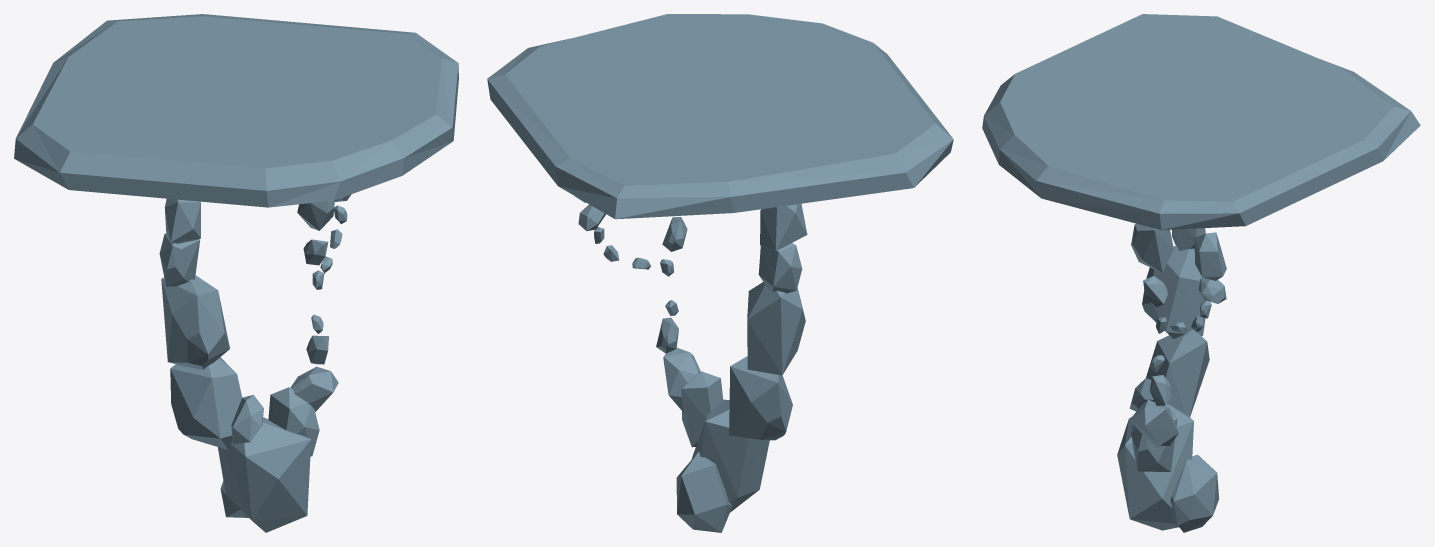
The model's file is StoneTree4.fbx.
The picture shows the model from 3 angles, left to right: view 1: azimuth 30°, elevation 25°; view 2: azimuth 150°, elevation 25°; view 3: azimuth 270°, elevation 25°; orthographic projection. The views are drawn at different scales.
Parts seen in each view (by area): view 1: Cube.084, Cube.085, Cube.086, Cube.104, Cube.101, Cube.105, Cube.106, Cube.100, Cube.088, Cube.095, Cube.098; view 2: Cube.084, Cube.104, Cube.086, Cube.085, Cube.087, Cube.101, Cube.106, Cube.105, Cube.100, Cube.098, Cube.094; view 3: Cube.084, Cube.085, Cube.104, Cube.086, Cube.087, Cube.095, Cube.100, Cube.101, Cube.096, Cube.094, Cube.097, Cube.098 (+1 smaller).
Boxes of the visible parts, left/top/right/bottom form: Cube.084: left=14, top=14, right=458, bottom=207; Cube.085: left=218, top=417, right=311, bottom=532; Cube.086: left=170, top=357, right=242, bottom=449; Cube.104: left=161, top=275, right=229, bottom=369; Cube.101: left=268, top=387, right=319, bottom=456; Cube.105: left=159, top=233, right=199, bottom=286; Cube.106: left=164, top=198, right=200, bottom=243; Cube.100: left=290, top=366, right=338, bottom=411; Cube.088: left=231, top=395, right=263, bottom=444; Cube.095: left=297, top=200, right=334, bottom=230; Cube.098: left=306, top=335, right=328, bottom=364; Cube.084: left=487, top=14, right=953, bottom=219; Cube.104: left=747, top=282, right=805, bottom=375; Cube.086: left=729, top=356, right=792, bottom=440; Cube.085: left=691, top=399, right=769, bottom=512; Cube.087: left=676, top=451, right=732, bottom=532; Cube.101: left=681, top=371, right=723, bottom=447; Cube.106: left=760, top=203, right=807, bottom=251; Cube.105: left=758, top=243, right=802, bottom=293; Cube.100: left=663, top=347, right=700, bottom=412; Cube.098: left=656, top=317, right=678, bottom=353; Cube.094: left=662, top=217, right=687, bottom=251; Cube.084: left=982, top=14, right=1420, bottom=230; Cube.085: left=1117, top=403, right=1193, bottom=530; Cube.104: left=1142, top=246, right=1205, bottom=339; Cube.086: left=1146, top=329, right=1209, bottom=416; Cube.087: left=1170, top=454, right=1219, bottom=532; Cube.095: left=1131, top=223, right=1173, bottom=273; Cube.100: left=1130, top=399, right=1178, bottom=447; Cube.101: left=1131, top=405, right=1177, bottom=471; Cube.096: left=1194, top=232, right=1226, bottom=280; Cube.094: left=1143, top=276, right=1168, bottom=307; Cube.097: left=1198, top=277, right=1226, bottom=303; Cube.098: left=1149, top=375, right=1171, bottom=405.
Bounding box in the file's own units: 3091 × 3123 × 2950.
